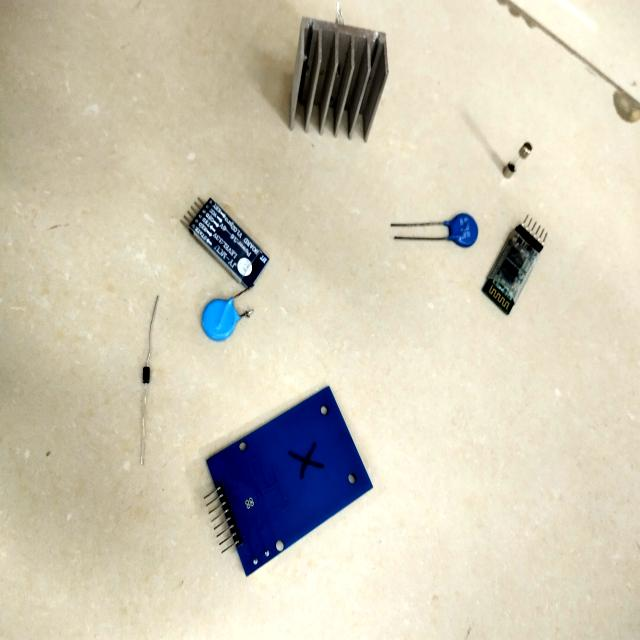capacitor: (201, 299, 239, 341), (448, 213, 478, 247)
